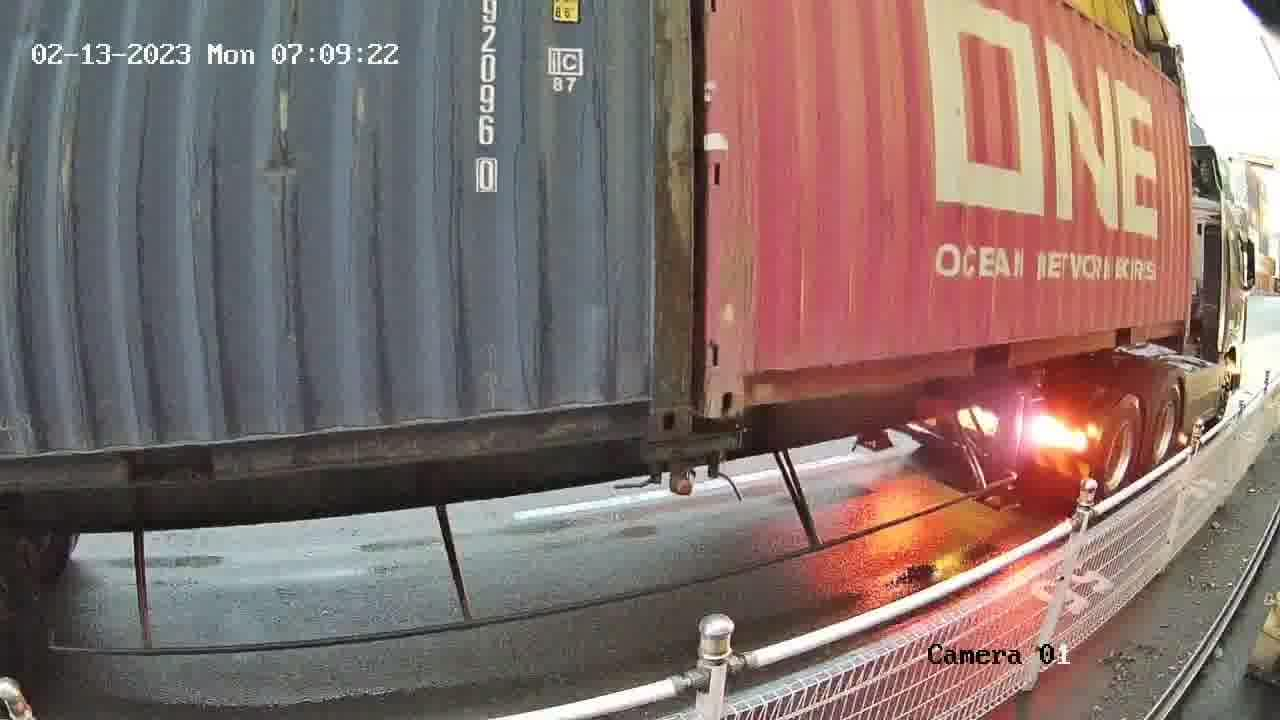Cone: (704, 430, 740, 483), (639, 441, 670, 484)
Hole_L: (705, 347, 777, 415)
Hole_R: (621, 371, 692, 439)
Tire: (1093, 399, 1141, 511), (1145, 383, 1183, 483)
